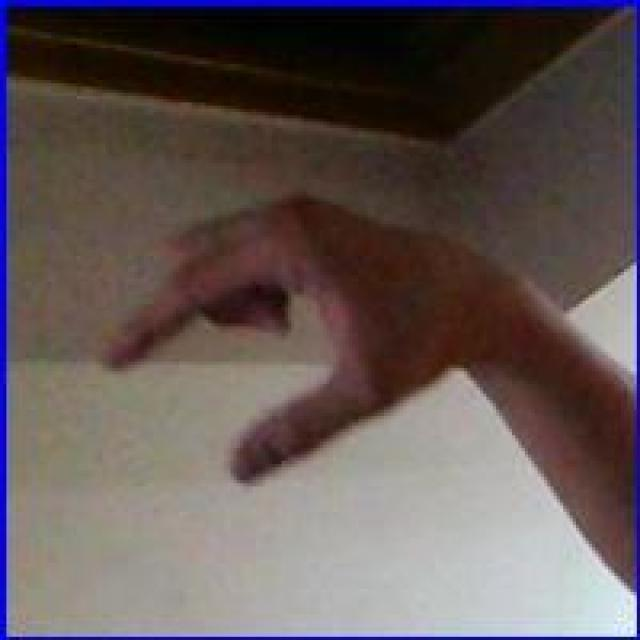Q: (94, 185, 488, 492)
